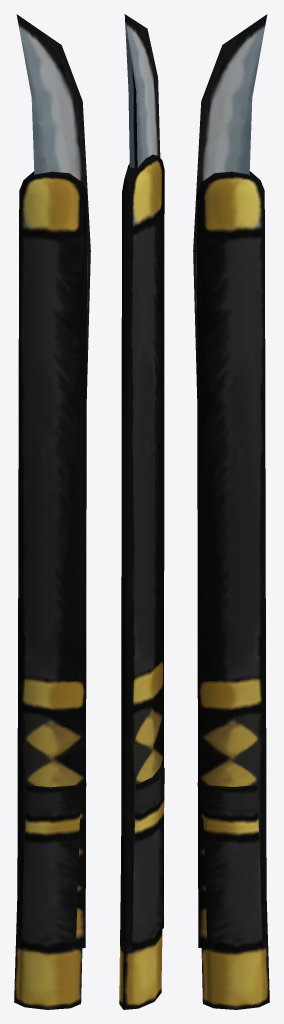
File: WP_2H_Nodachi101.FBX
The picture shows the model from 3 angles, left to right: view 1: azimuth 90°, elevation 25°; view 2: azimuth 150°, elevation 25°; view 3: azimuth 270°, elevation 25°; orthographic projection.
Visible parts, largest first — view 1: WP_2H_NodachiScabbard101, WP_2H_Nodachi101; view 2: WP_2H_NodachiScabbard101, WP_2H_Nodachi101; view 3: WP_2H_NodachiScabbard101, WP_2H_Nodachi101.
Boxes of the visible parts, x1,y1,x2,y2 form: WP_2H_NodachiScabbard101: [17, 171, 86, 948]; WP_2H_Nodachi101: [14, 14, 90, 1009]; WP_2H_NodachiScabbard101: [121, 154, 164, 952]; WP_2H_Nodachi101: [119, 14, 164, 1009]; WP_2H_NodachiScabbard101: [197, 171, 266, 948]; WP_2H_Nodachi101: [193, 14, 269, 1009].
Size of the model in its own units: 4.91 by 158 by 11.11.
